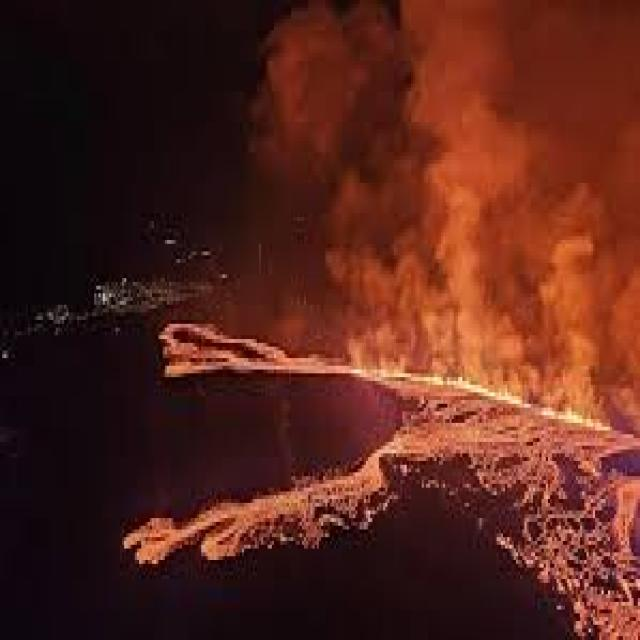explosion: (278, 0, 640, 476)
